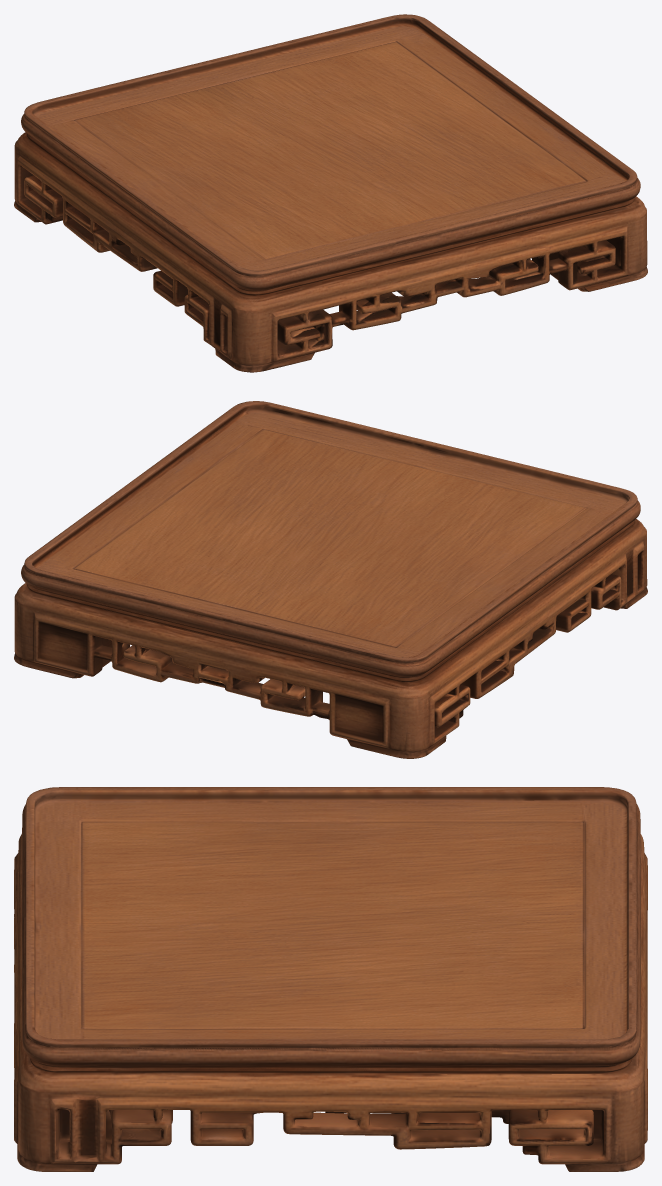
The picture shows the model from 3 angles, top to bottom: view 1: azimuth 30°, elevation 25°; view 2: azimuth 150°, elevation 25°; view 3: azimuth 270°, elevation 25°; orthographic projection. The views are drawn at different scales.
Visible parts, largest first — view 1: node_0; view 2: node_0; view 3: node_0.
Boxes of the visible parts, x1,y1,x2,y2 form: node_0: (14,14,647,372); node_0: (14,401,647,758); node_0: (14,787,647,1171).
Size of the model in its own units: 0.8716 by 0.1932 by 0.8719.
1 material, 1 textured.
